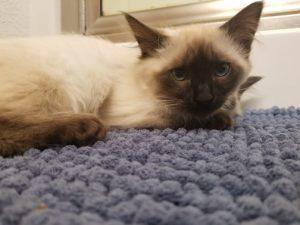siamese: (126, 1, 269, 144)
